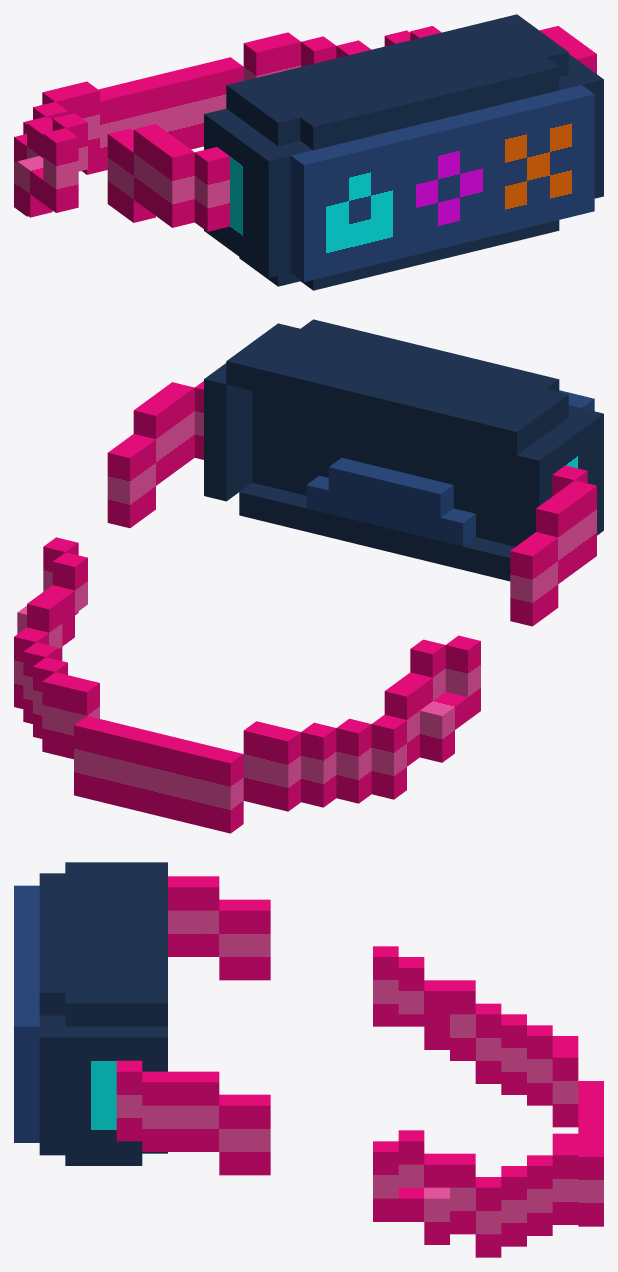
The model's file is lazer light_yellow hard hat.gltf.
3 views of the same model, one above another, from view 1: azimuth 30°, elevation 25°; view 2: azimuth 150°, elevation 25°; view 3: azimuth 270°, elevation 25° (orthographic).
Visible parts, largest first — view 1: D07_E_YHardHat_LazerL-Mesh; view 2: D07_E_YHardHat_LazerL-Mesh; view 3: D07_E_YHardHat_LazerL-Mesh.
Boxes of the visible parts, box(x1,y1,x2,y2) form: D07_E_YHardHat_LazerL-Mesh: box(14, 14, 603, 290); D07_E_YHardHat_LazerL-Mesh: box(14, 319, 603, 833); D07_E_YHardHat_LazerL-Mesh: box(14, 862, 603, 1257).
Bounding box in the file's own units: 19 × 11 × 23.
Materials: 1 (1 with a texture image).
